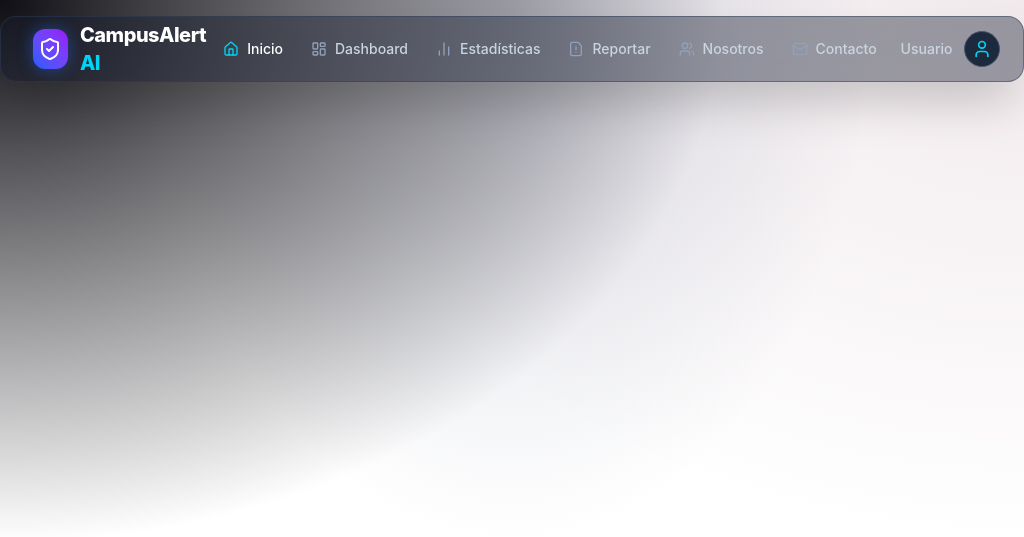
Scenario: Navbar Component › shows Logout button when authenticated
Note: First, open the dropdown
Click the button "Usuario": click(950, 49) top-left (889, 23), bottom-right (1012, 75)
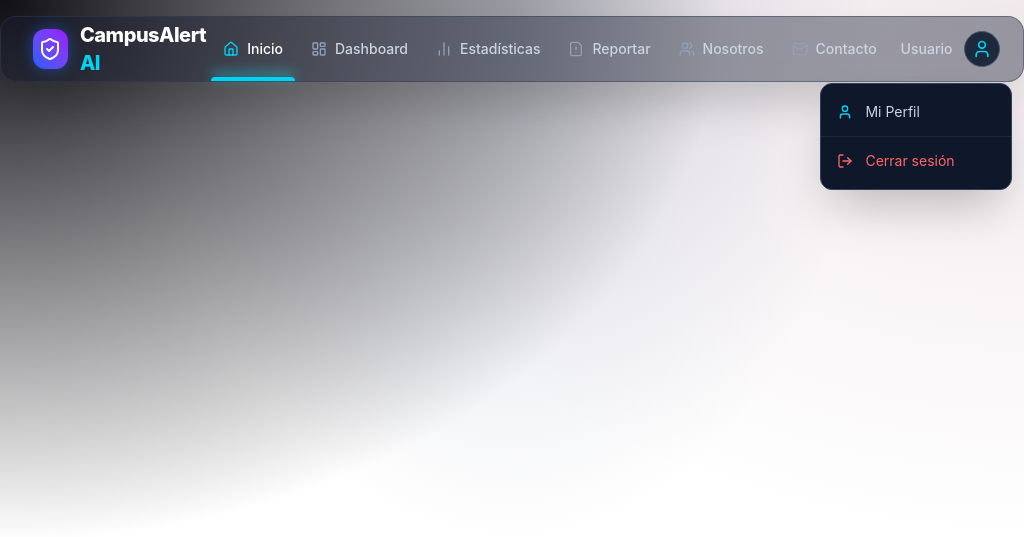
Now the button "Cerrar sesión" is shown, box top-left (821, 141), bottom-right (1011, 181)
